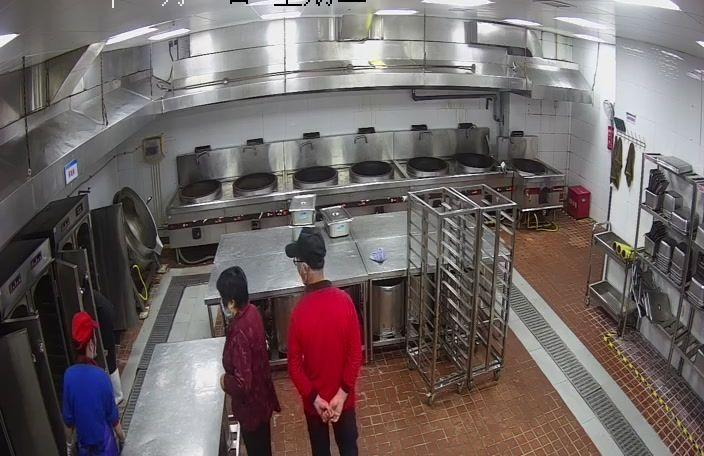no_apron: (328, 388, 354, 428), (312, 389, 331, 427)
